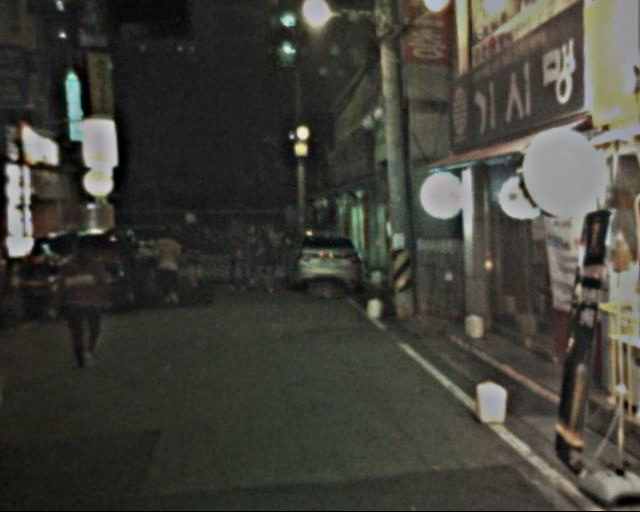person: (62, 225, 118, 372), (150, 222, 186, 311), (180, 207, 214, 293), (224, 212, 254, 294), (250, 220, 279, 298)
